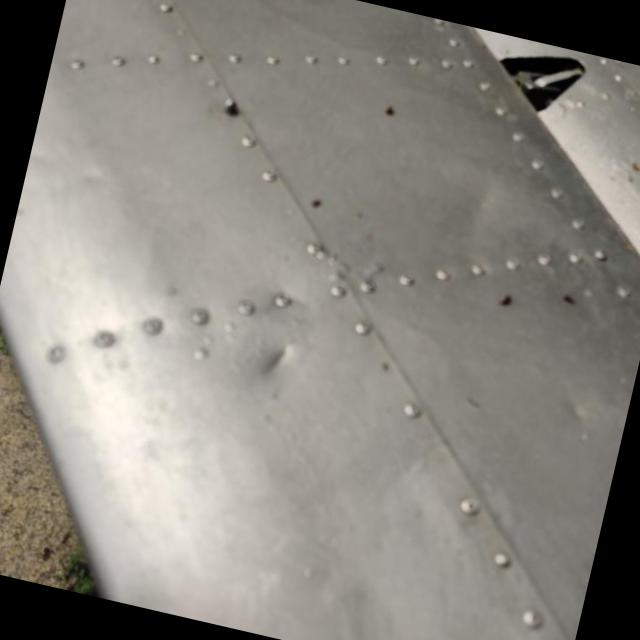Dent: (224, 301, 307, 425)
